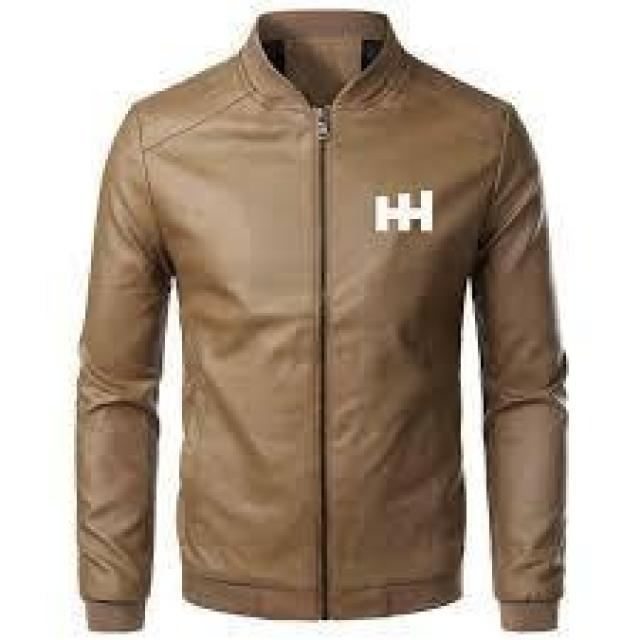jacket: (36, 3, 584, 637)
